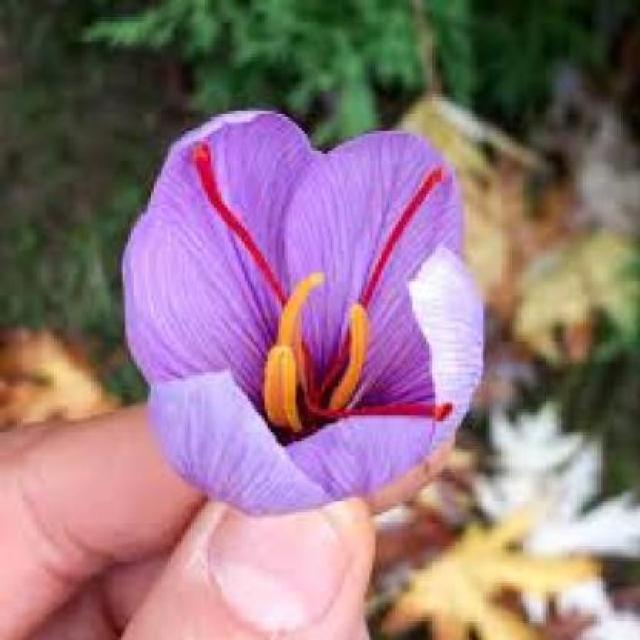saffron open: (121, 111, 483, 517)
